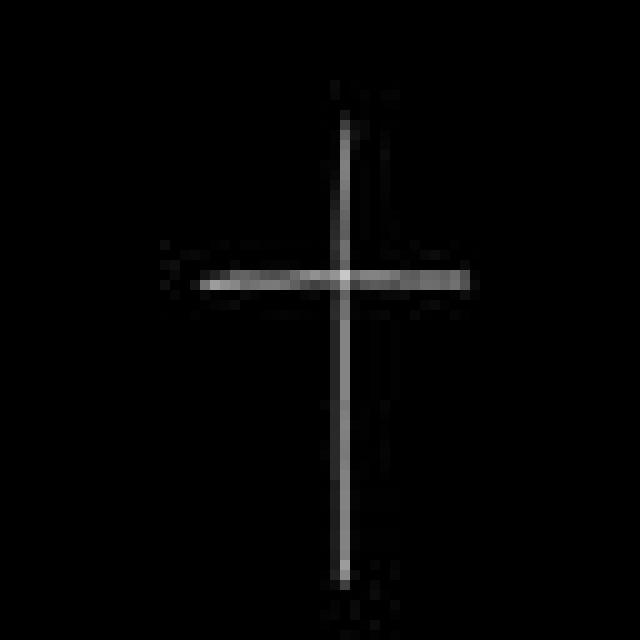10 -ten-: (186, 108, 478, 601)
